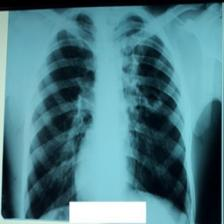tuberculosis: (19, 10, 192, 221)
